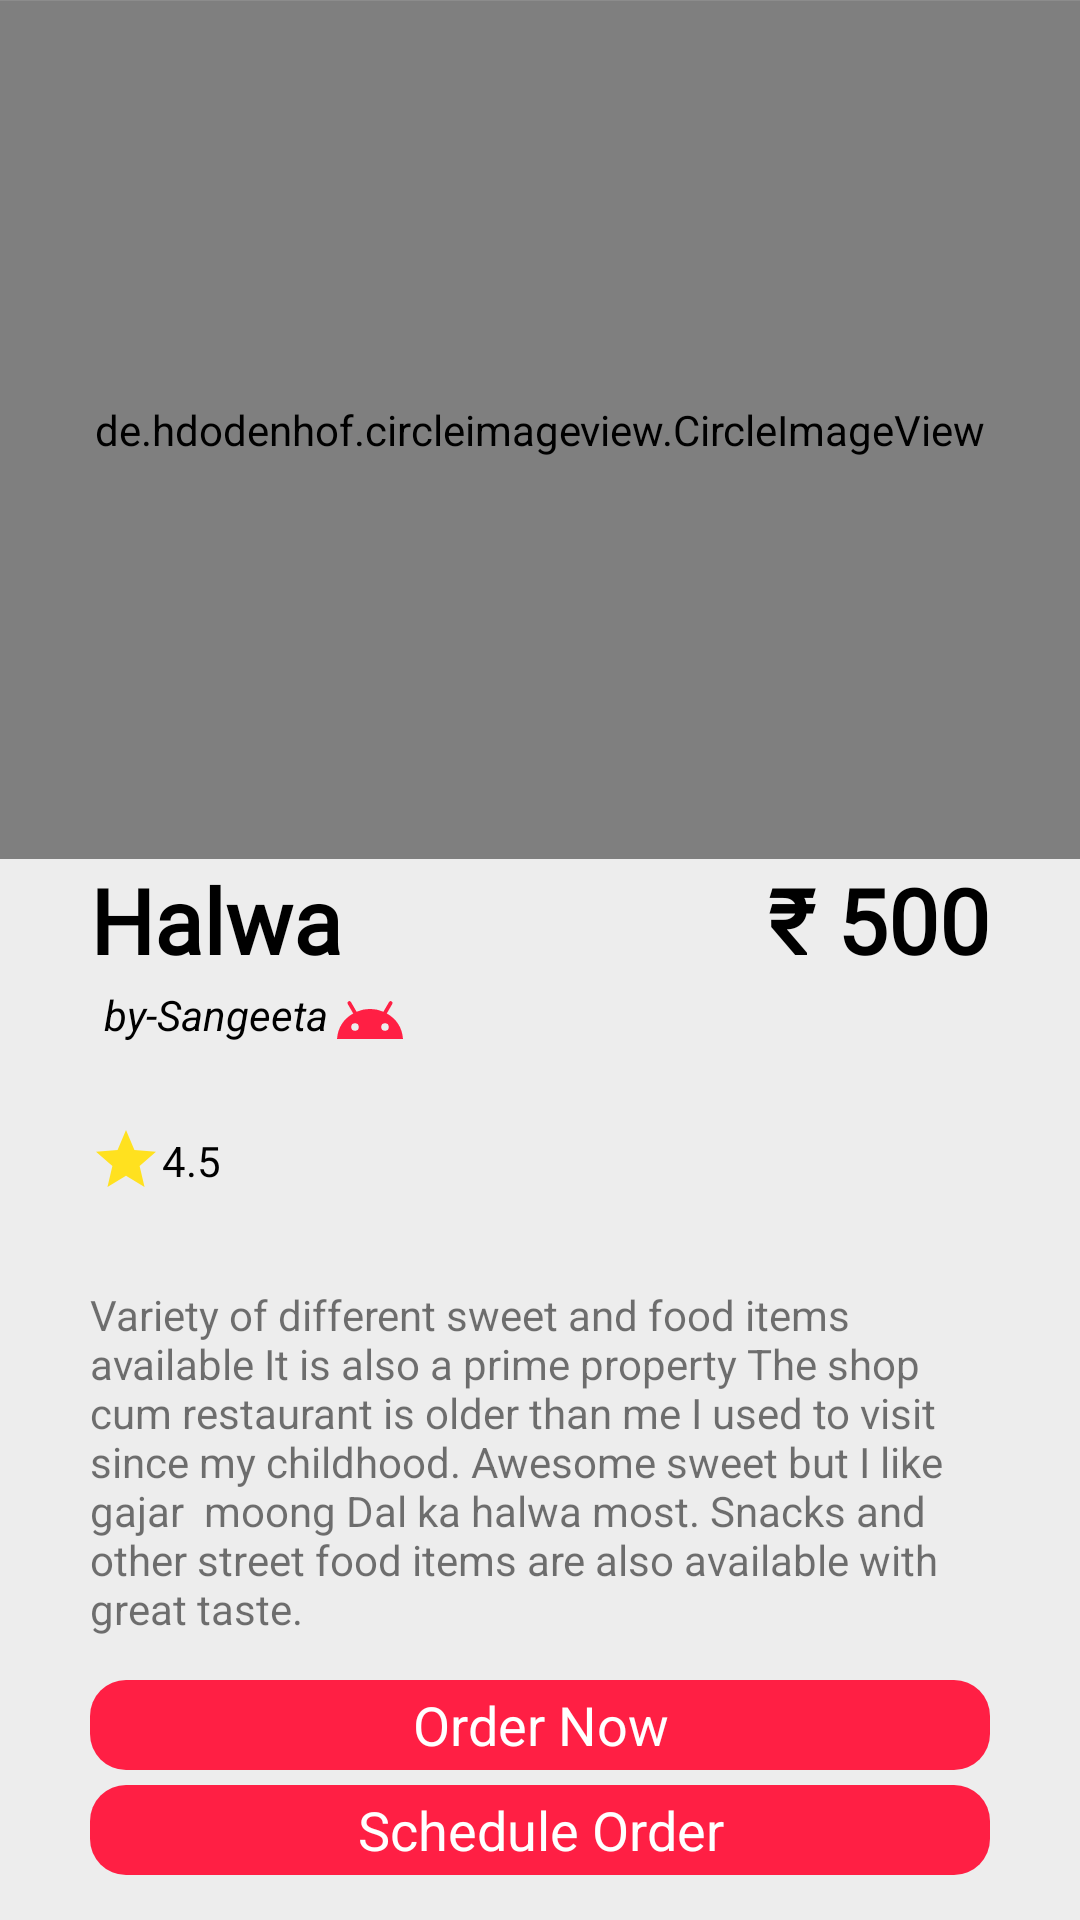

Locate icon controls on the screen. Image size 1080px x 1920px, boxes as (x1, y1, x2, y2).
starrr: (96, 1130, 156, 1187)
